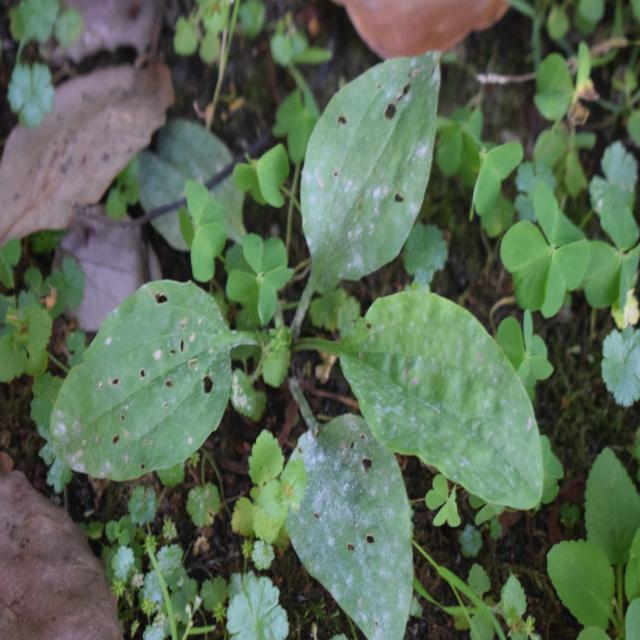plantain: (85, 93, 535, 586)
